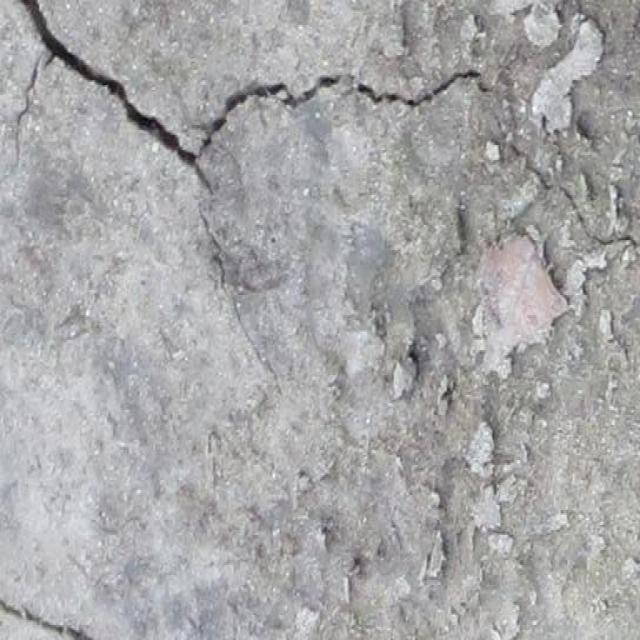crack: (3, 3, 639, 395), (0, 592, 96, 638)
